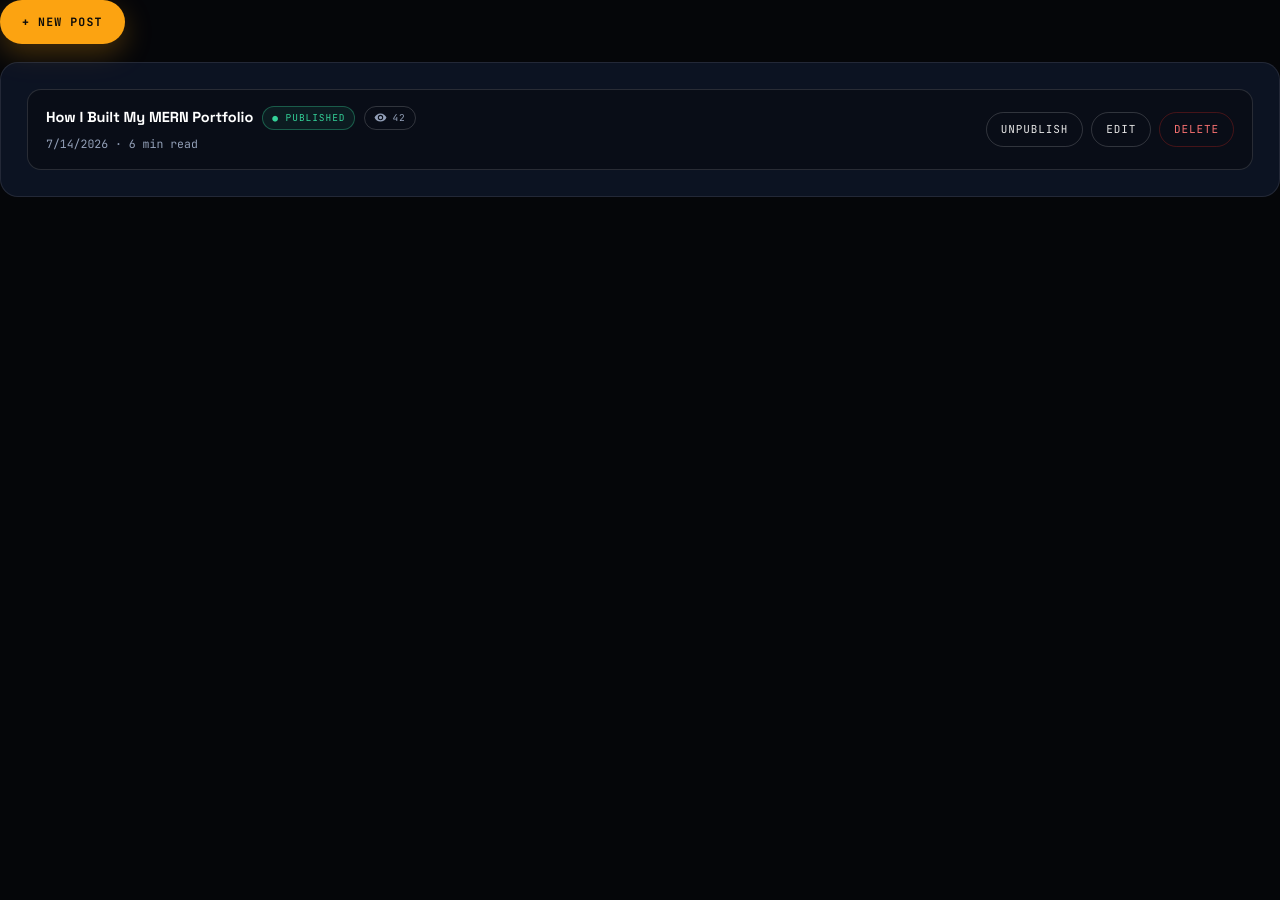
AdminBlogPanel — editing sections › removes a section
This screenshot has width=1280, height=900.
Click the button "EDIT": (1121, 130) [1091,112,1151,148]
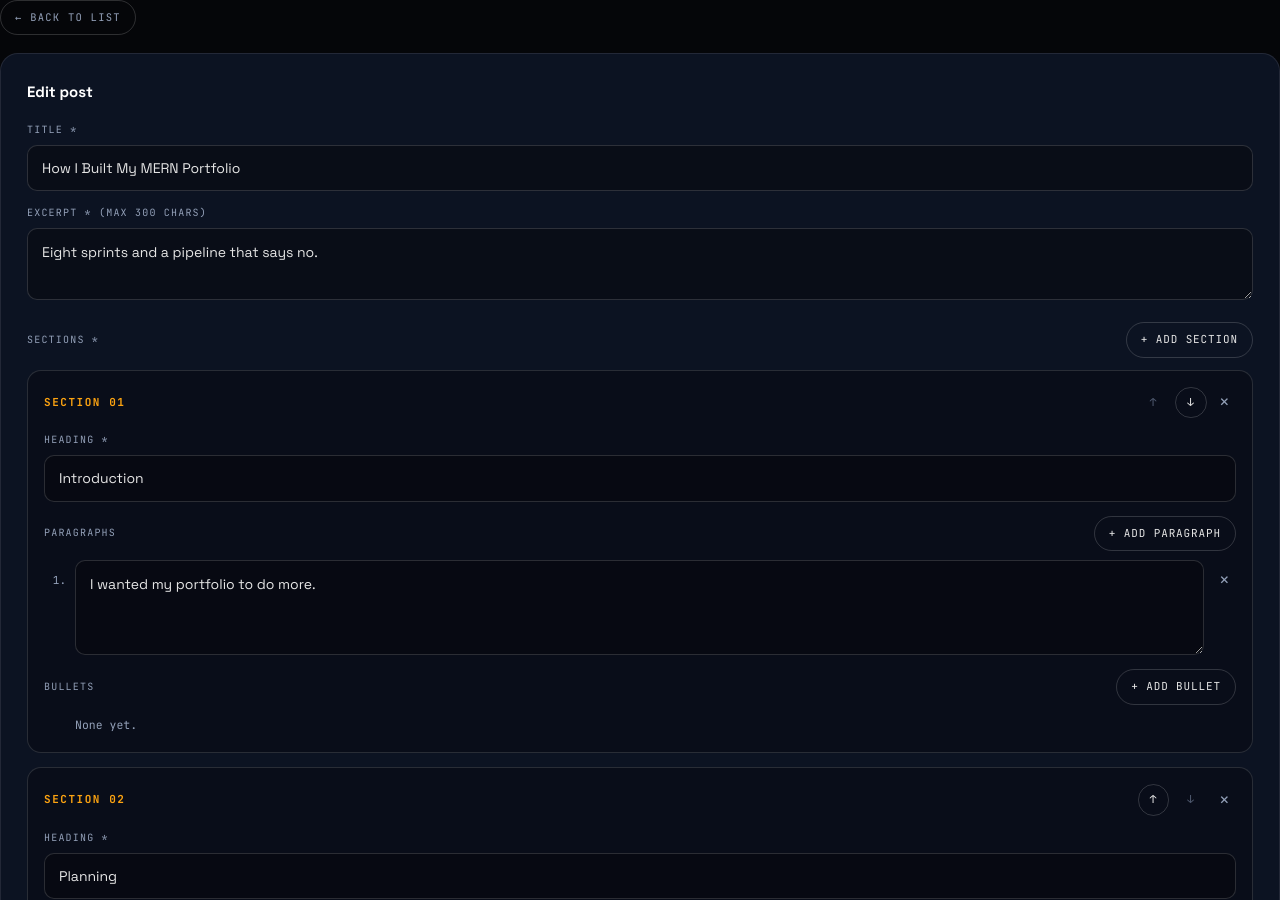
Click the button named "Remove section 01": (1224, 402) [1213,391,1236,413]
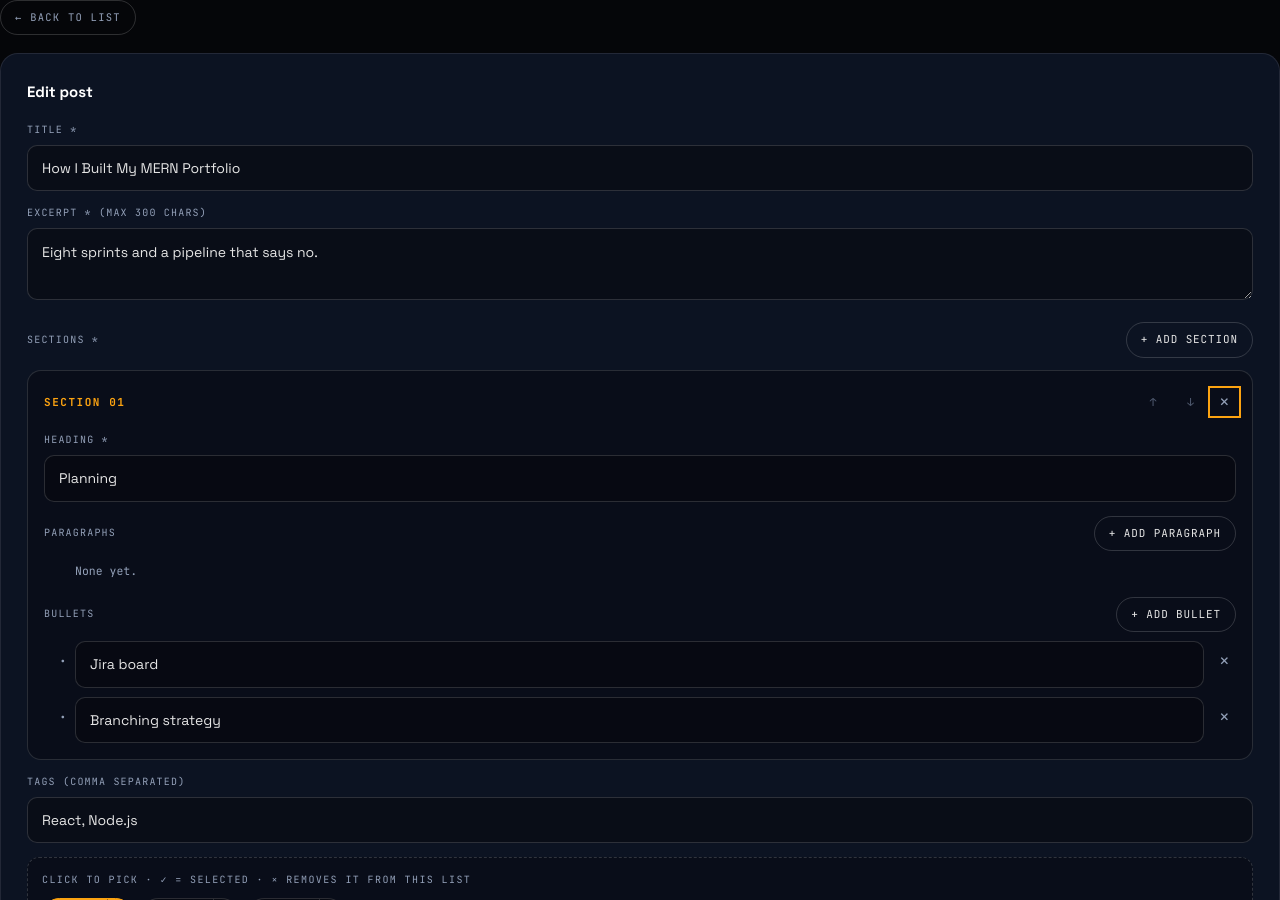
Expected: the field showing "Introduction" is not shown
Expected: the field showing "Planning" is shown, [44,455,1236,502]
